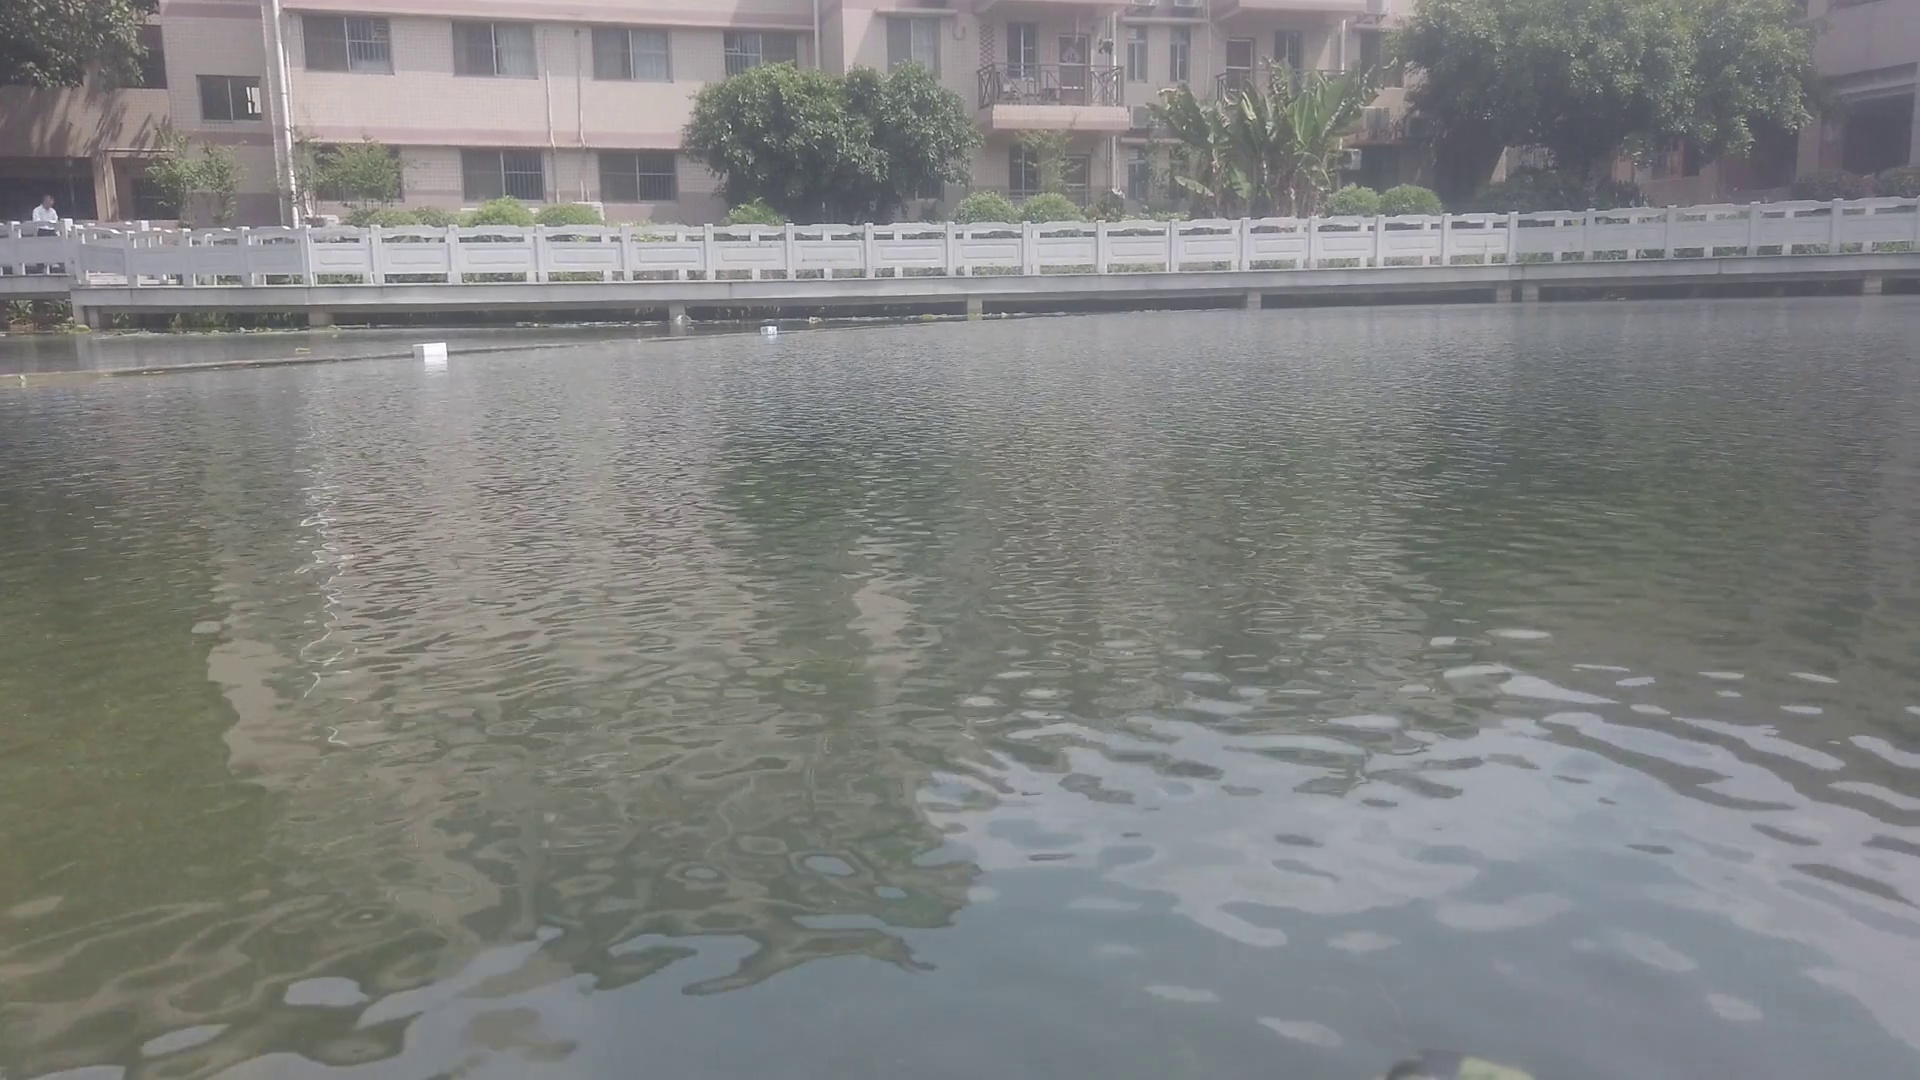carton: (411, 343, 448, 356), (756, 324, 778, 334)
